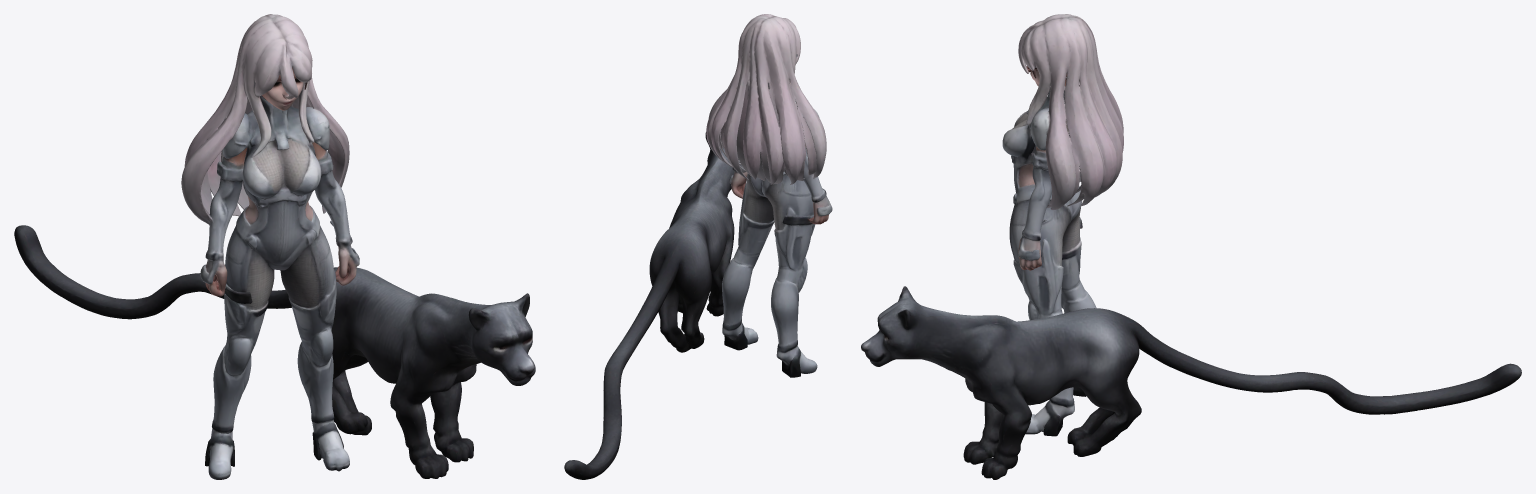
File: sample_2026-09-28T004454.761.glb
3 renders of one model, left to right at view 1: azimuth 30°, elevation 25°; view 2: azimuth 150°, elevation 25°; view 3: azimuth 270°, elevation 25°, orthographic. The views are drawn at different scales.
Parts seen in each view (by area): view 1: world; view 2: world; view 3: world.
Boxes of the visible parts, x1,y1,x2,y2 form: world: [14, 14, 535, 479]; world: [564, 14, 832, 479]; world: [861, 14, 1521, 479].
Size of the model in its own units: 0.3887 by 0.6571 by 0.995.
Materials: 1 (1 with a texture image).
